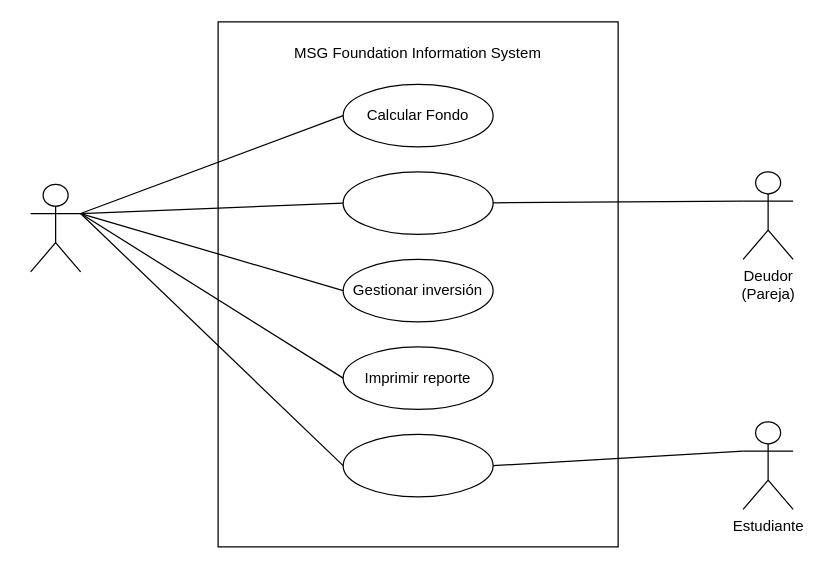
The diagram is 825 pixels wide and 569 high, and some of its shapes have lost their labels. The shapes that lost their labels are listed below. From the top down, each one's box as (x1, y1, x2, y2) in pixels, then its label:
(342, 171, 493, 234): Gestionar Hipoteca
(29, 183, 81, 272): Empleado MSGF
(342, 433, 493, 497): Otorgar beca-crédito
